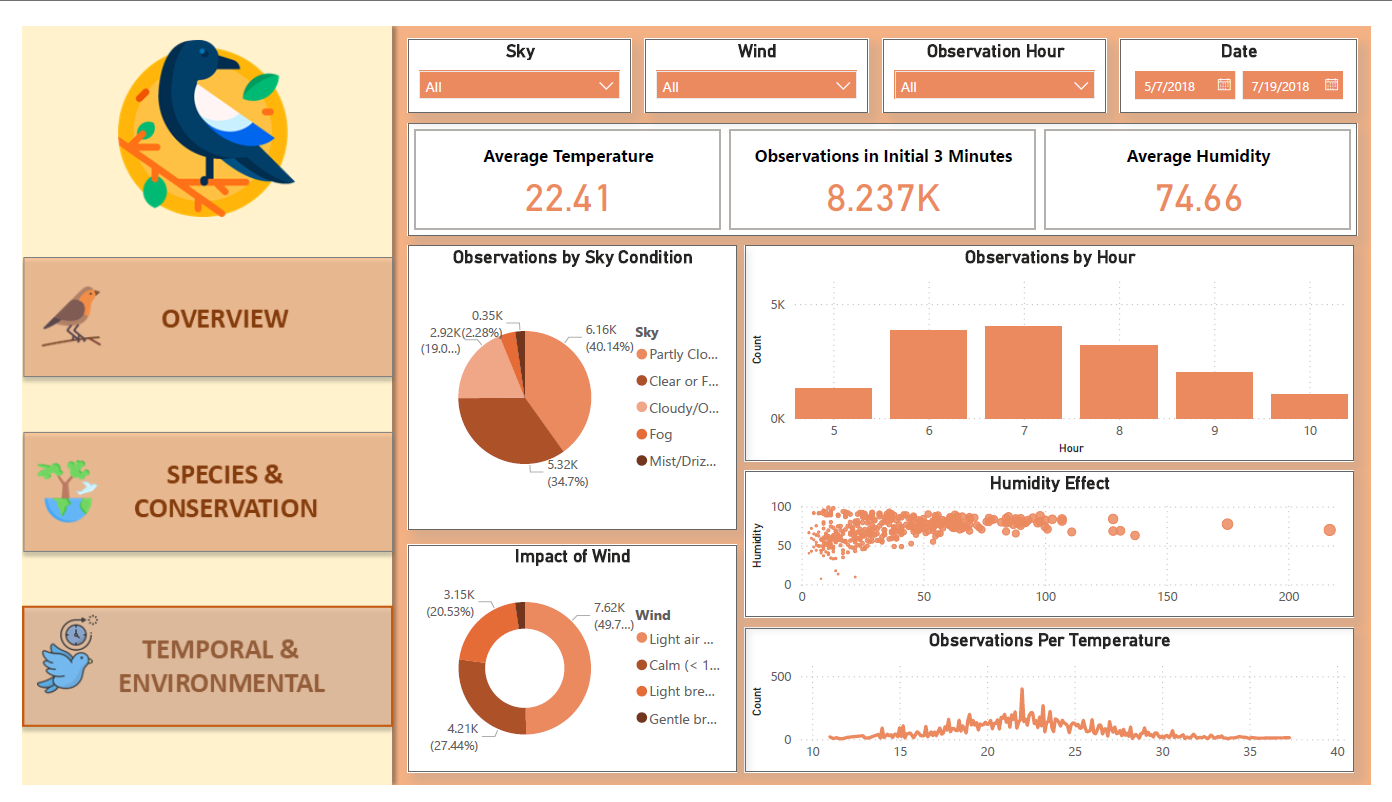

Layout of this report page (visuals, bound fields, positions):
{"tool":"powerbi","page":{"name":"Page 3","canvas":[1280,720],"ordinal":2},"visuals":[{"type":"actionButton","box":[1.2,219.6,348.7,113.4],"z":0},{"type":"actionButton","box":[1.2,384.9,348.7,117],"z":1000},{"type":"cardVisual","fields":{"Data":["Avg(Bird_Monitoring_Clean_Merged_dataset.Temperature)","CountNonNull(Bird_Monitoring_Clean_Merged_dataset.Initial_Three_Min_Cnt)","Avg(Bird_Monitoring_Clean_Merged_dataset.Humidity)"]},"box":[365.6,91.7,901.2,107.4],"z":2000},{"type":"slicer","title":"Sky","fields":{"Values":["Bird_Monitoring_Clean_Merged_dataset.Sky"]},"box":[365.6,12.1,212.3,70],"z":3000},{"type":"slicer","title":"Wind","fields":{"Values":["Bird_Monitoring_Clean_Merged_dataset.Wind"]},"box":[591,12,212.3,70],"z":4000},{"type":"slicer","title":"Observation Hour","fields":{"Values":["Bird_Monitoring_Clean_Merged_dataset.Observation_Hour"]},"box":[816.8,12.1,212.3,70],"z":5000},{"type":"columnChart","title":"Observations by Hour","fields":{"Category":["Bird_Monitoring_Clean_Merged_dataset.Observation_Hour"],"Y":["CountNonNull(Bird_Monitoring_Clean_Merged_dataset.Common_Name)"]},"box":[686.5,207.5,577.9,205.1],"z":6000},{"type":"lineChart","title":"Observations Per Temperature","fields":{"Y":["CountNonNull(Bird_Monitoring_Clean_Merged_dataset.Common_Name)"],"Category":["Bird_Monitoring_Clean_Merged_dataset.Temperature"]},"box":[686.5,570.6,577.9,137.5],"z":7000},{"type":"pieChart","title":"Observations by Sky Condition","fields":{"Category":["Bird_Monitoring_Clean_Merged_dataset.Sky"],"Y":["CountNonNull(Bird_Monitoring_Clean_Merged_dataset.Sky)"]},"box":[365.6,207.5,312.5,270.2],"z":8000},{"type":"donutChart","title":"Impact of Wind","fields":{"Category":["Bird_Monitoring_Clean_Merged_dataset.Wind"],"Y":["CountNonNull(Bird_Monitoring_Clean_Merged_dataset.Common_Name)"]},"box":[365.6,492.2,312.5,216],"z":9000},{"type":"scatterChart","title":"Humidity Effect","fields":{"X":["CountNonNull(Bird_Monitoring_Clean_Merged_dataset.Common_Name)"],"Y":["Bird_Monitoring_Clean_Merged_dataset.Humidity"],"Size":["Sum(Bird_Monitoring_Clean_Merged_dataset.Humidity)"]},"box":[686.5,422.3,577.9,138.7],"z":10000},{"type":"slicer","title":"Date","fields":{"Values":["Bird_Monitoring_Clean_Merged_dataset.Date"]},"box":[1042.4,12.1,224.4,70],"z":11000}]}

Visuals, with their boxes in screenshot pixels (x1, y1, x2, y2), scaled from the page's 1280x720 canvas onto the 1392x802 screenshot:
actionButton: Rect(1, 245, 381, 371)
actionButton: Rect(1, 429, 381, 559)
cardVisual - Avg(Bird_Monitoring_Clean_Merged_dataset.Temperature) x CountNonNull(Bird_Monitoring_Clean_Merged_dataset.Initial_Three_Min_Cnt): Rect(398, 102, 1378, 222)
"Sky" slicer: Rect(398, 13, 628, 91)
"Wind" slicer: Rect(643, 13, 874, 91)
"Observation Hour" slicer: Rect(888, 13, 1119, 91)
"Observations by Hour" columnChart: Rect(747, 231, 1375, 460)
"Observations Per Temperature" lineChart: Rect(747, 636, 1375, 789)
"Observations by Sky Condition" pieChart: Rect(398, 231, 737, 532)
"Impact of Wind" donutChart: Rect(398, 548, 737, 789)
"Humidity Effect" scatterChart: Rect(747, 470, 1375, 625)
"Date" slicer: Rect(1134, 13, 1378, 91)
